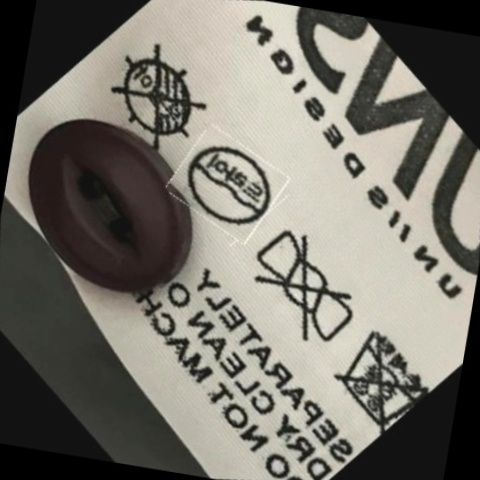DN_dry: (99, 38, 218, 158)
DN_wring: (237, 223, 371, 356)
dry_clean: (174, 130, 282, 241)
hand_wash: (322, 314, 436, 435)
